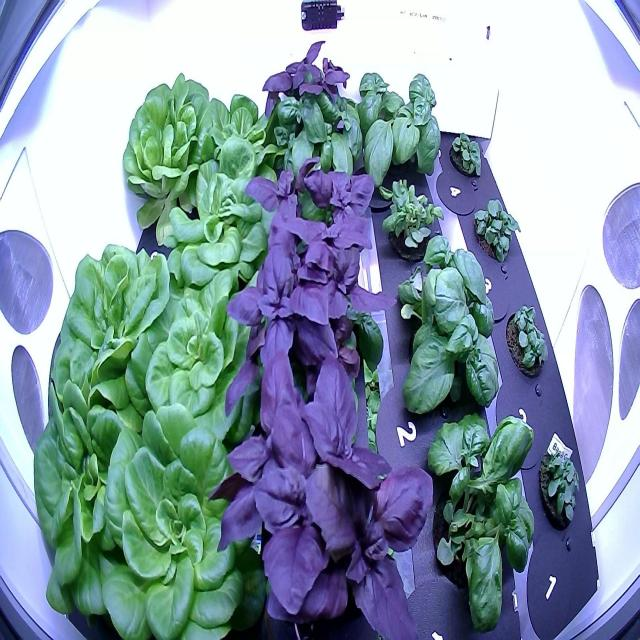Ready: (27, 372, 150, 624), (44, 234, 175, 440), (113, 58, 220, 238)
young: (95, 400, 275, 640), (115, 256, 272, 452), (160, 137, 290, 316), (190, 78, 289, 194)
